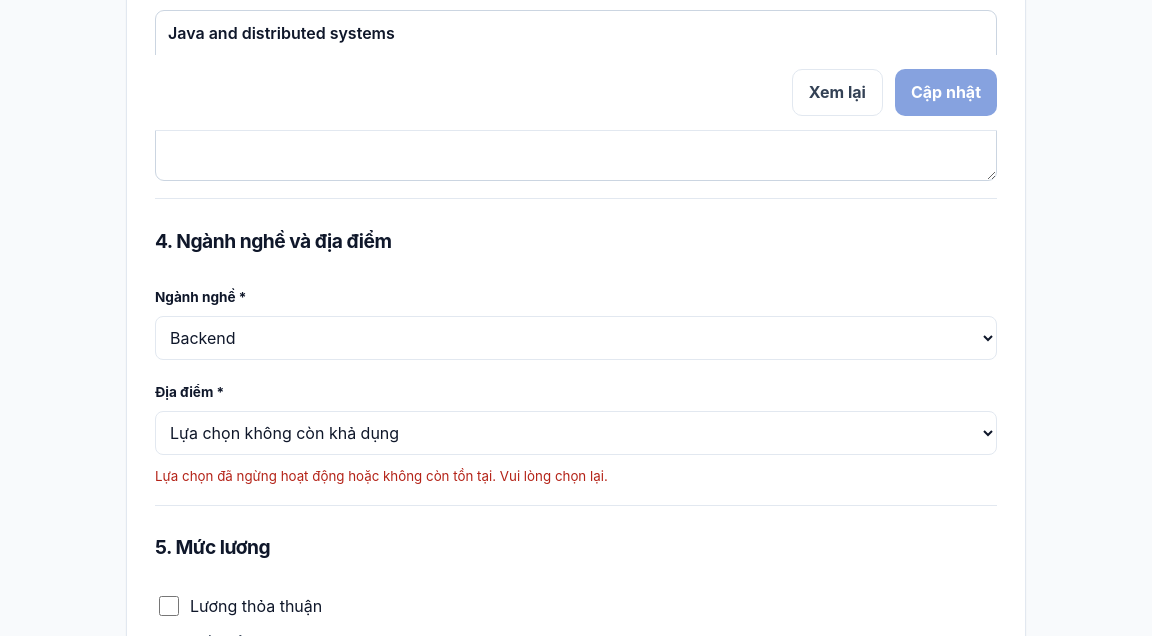
Test: job metadata › blocks inactive locationId during edit until reselected
(page scrolled)
Expected: the text "Lựa chọn đã ngừng hoạt động hoặc không còn tồn tại. Vui lòng chọn lại." is shown, [155, 468, 608, 484]
Expected: the button "Cập nhật" is disabled, [895, 69, 997, 116]
Select "Ho Chi Minh City" in the dropdown labelled "Địa điểm *" at (576, 433), box [155, 411, 997, 455]
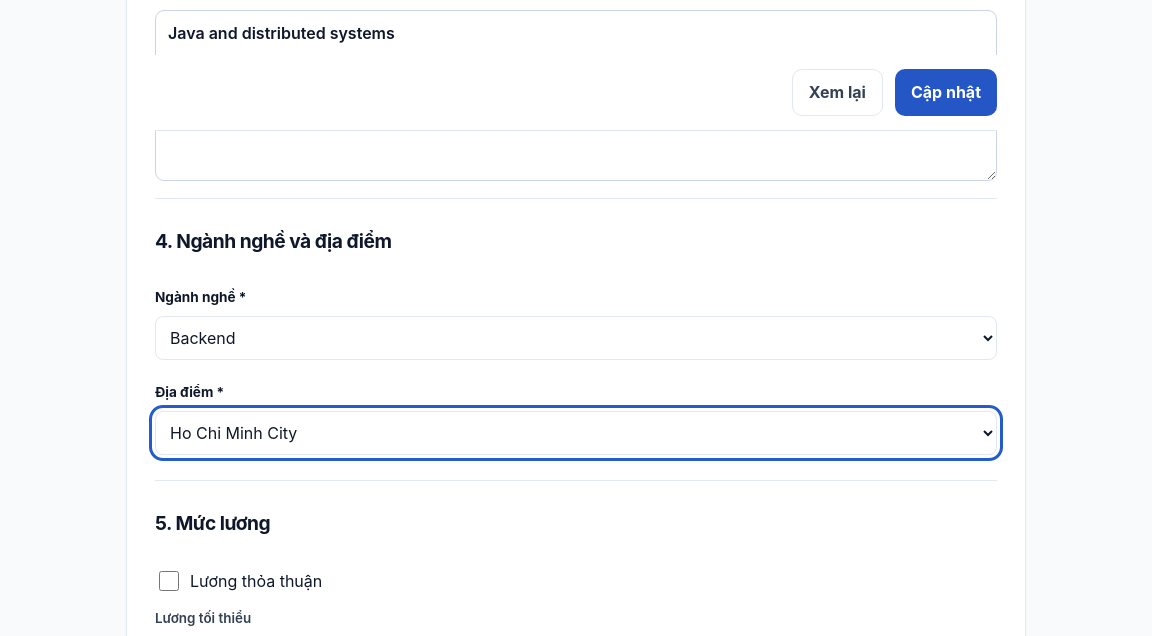
Result: the button "Cập nhật" is enabled at [895, 69, 997, 116]
